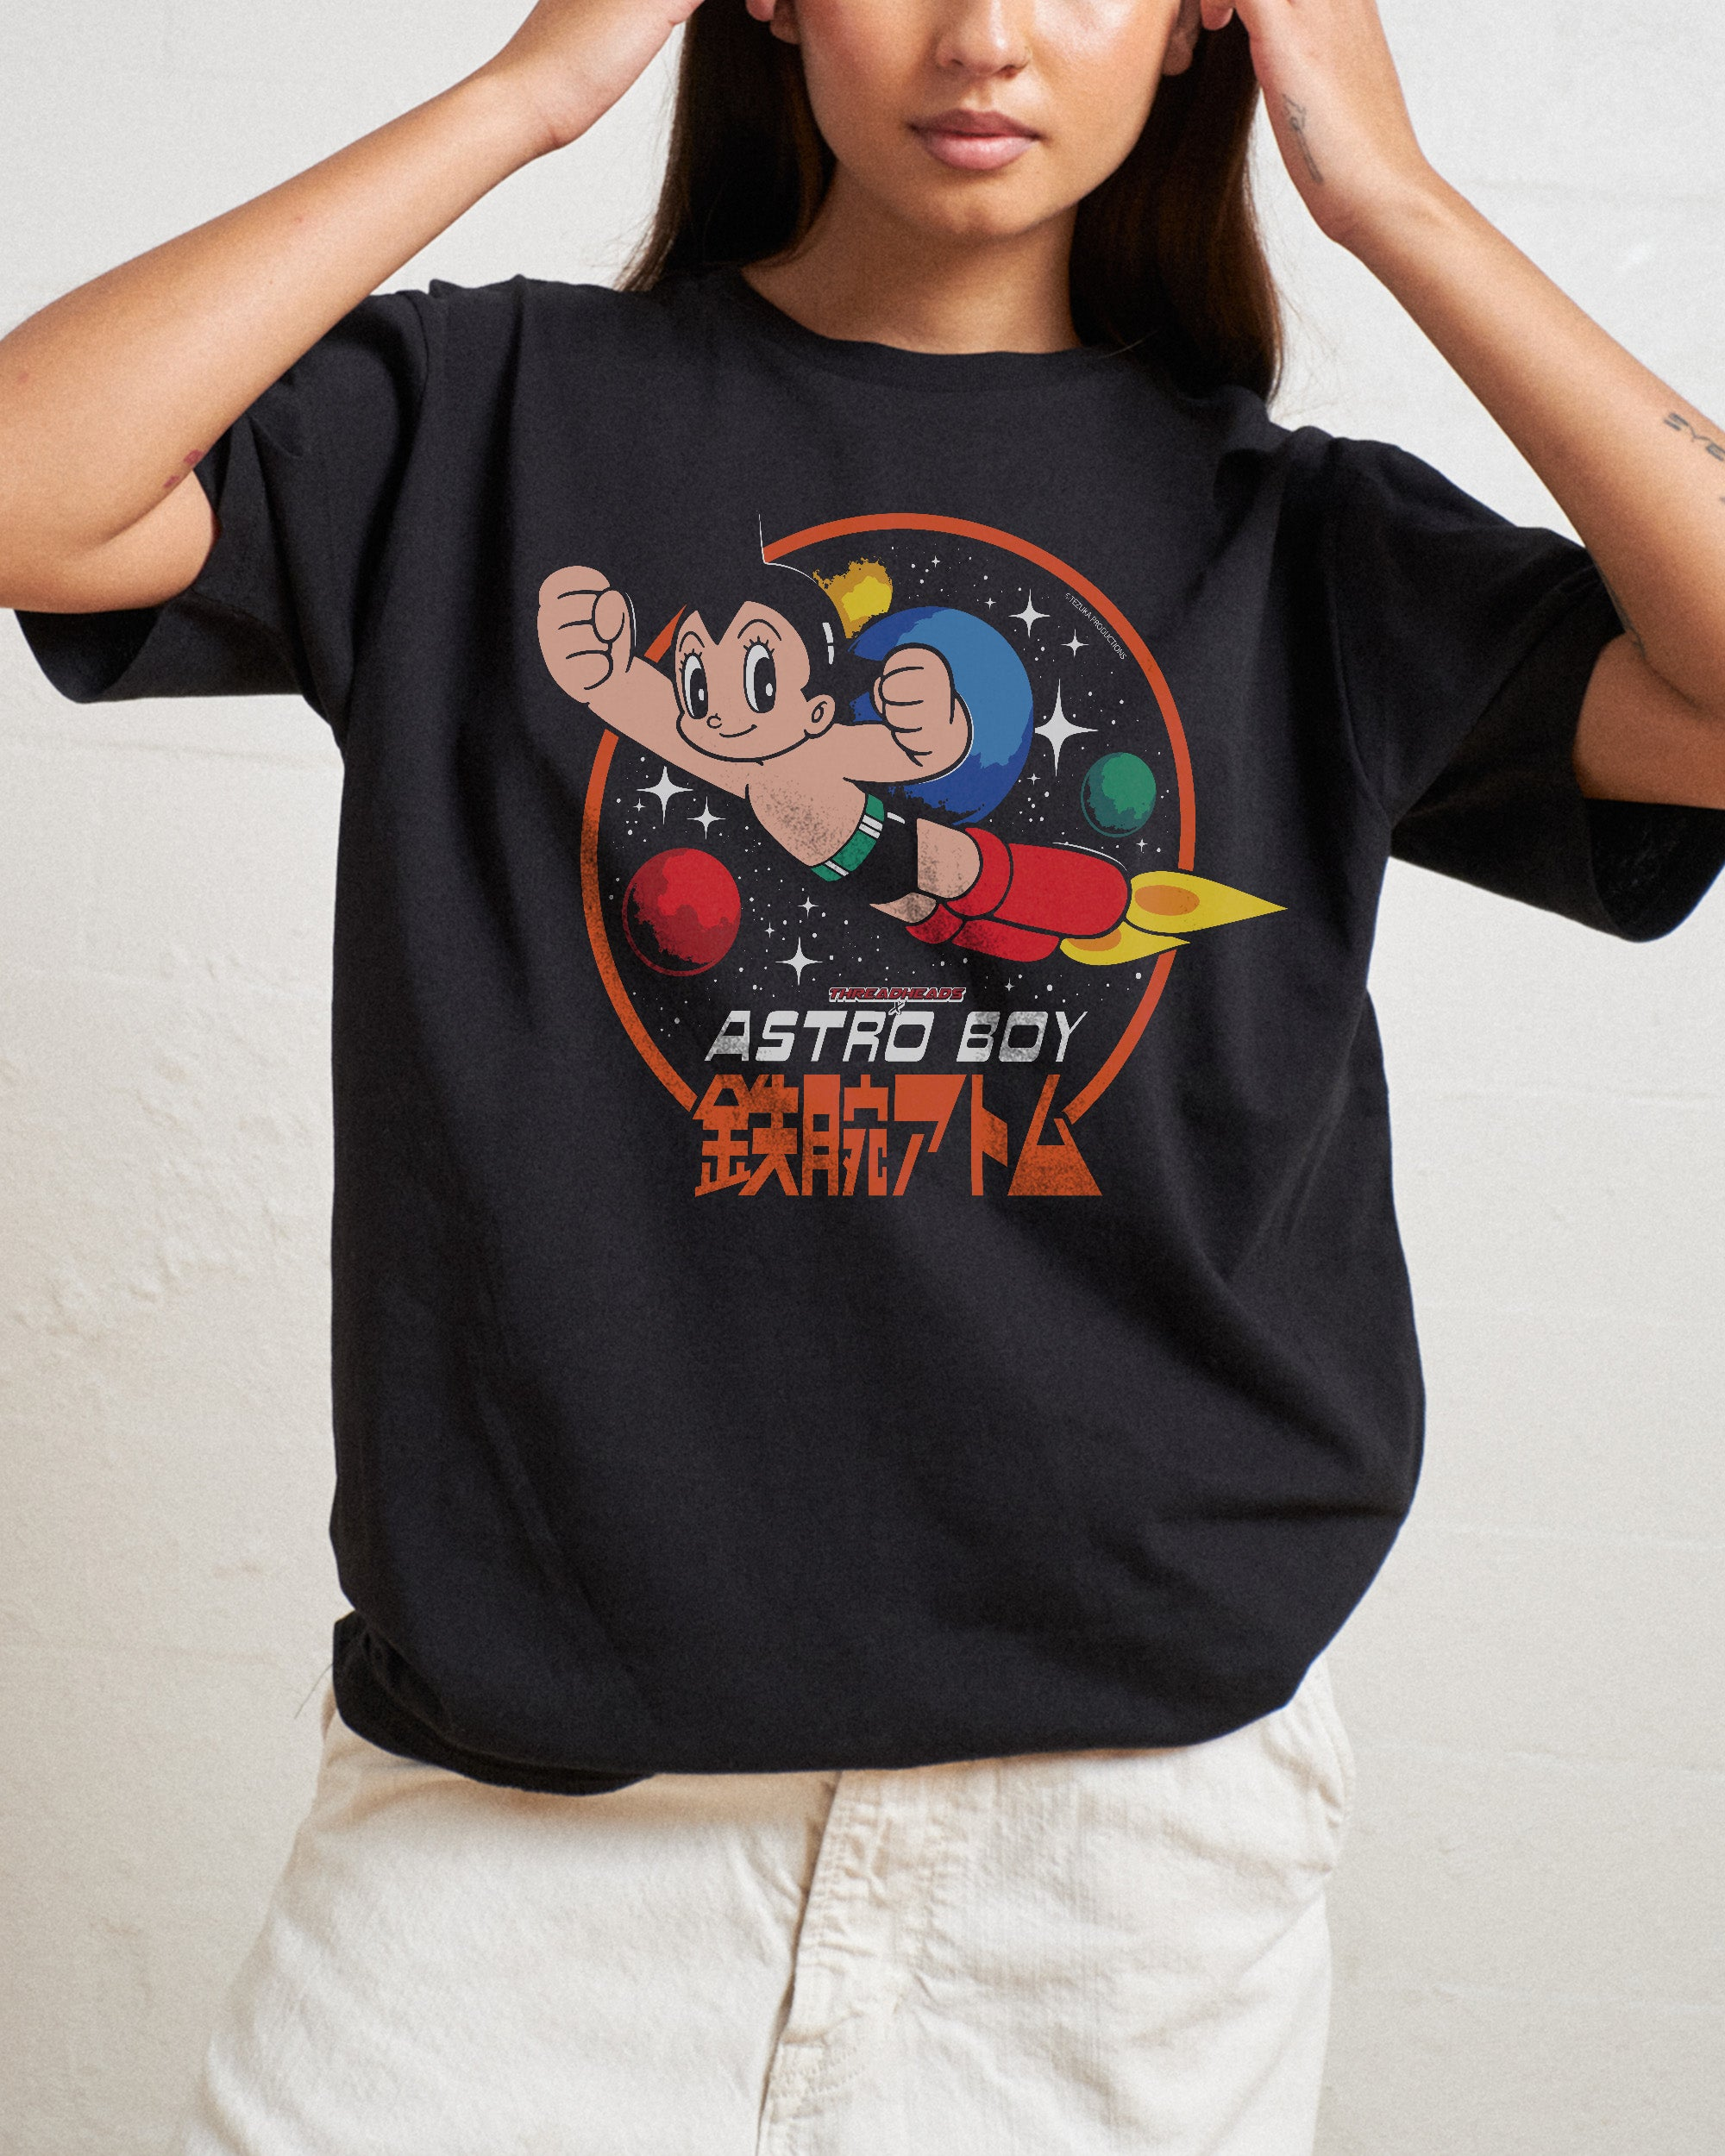design: (525, 488, 1297, 1216)
